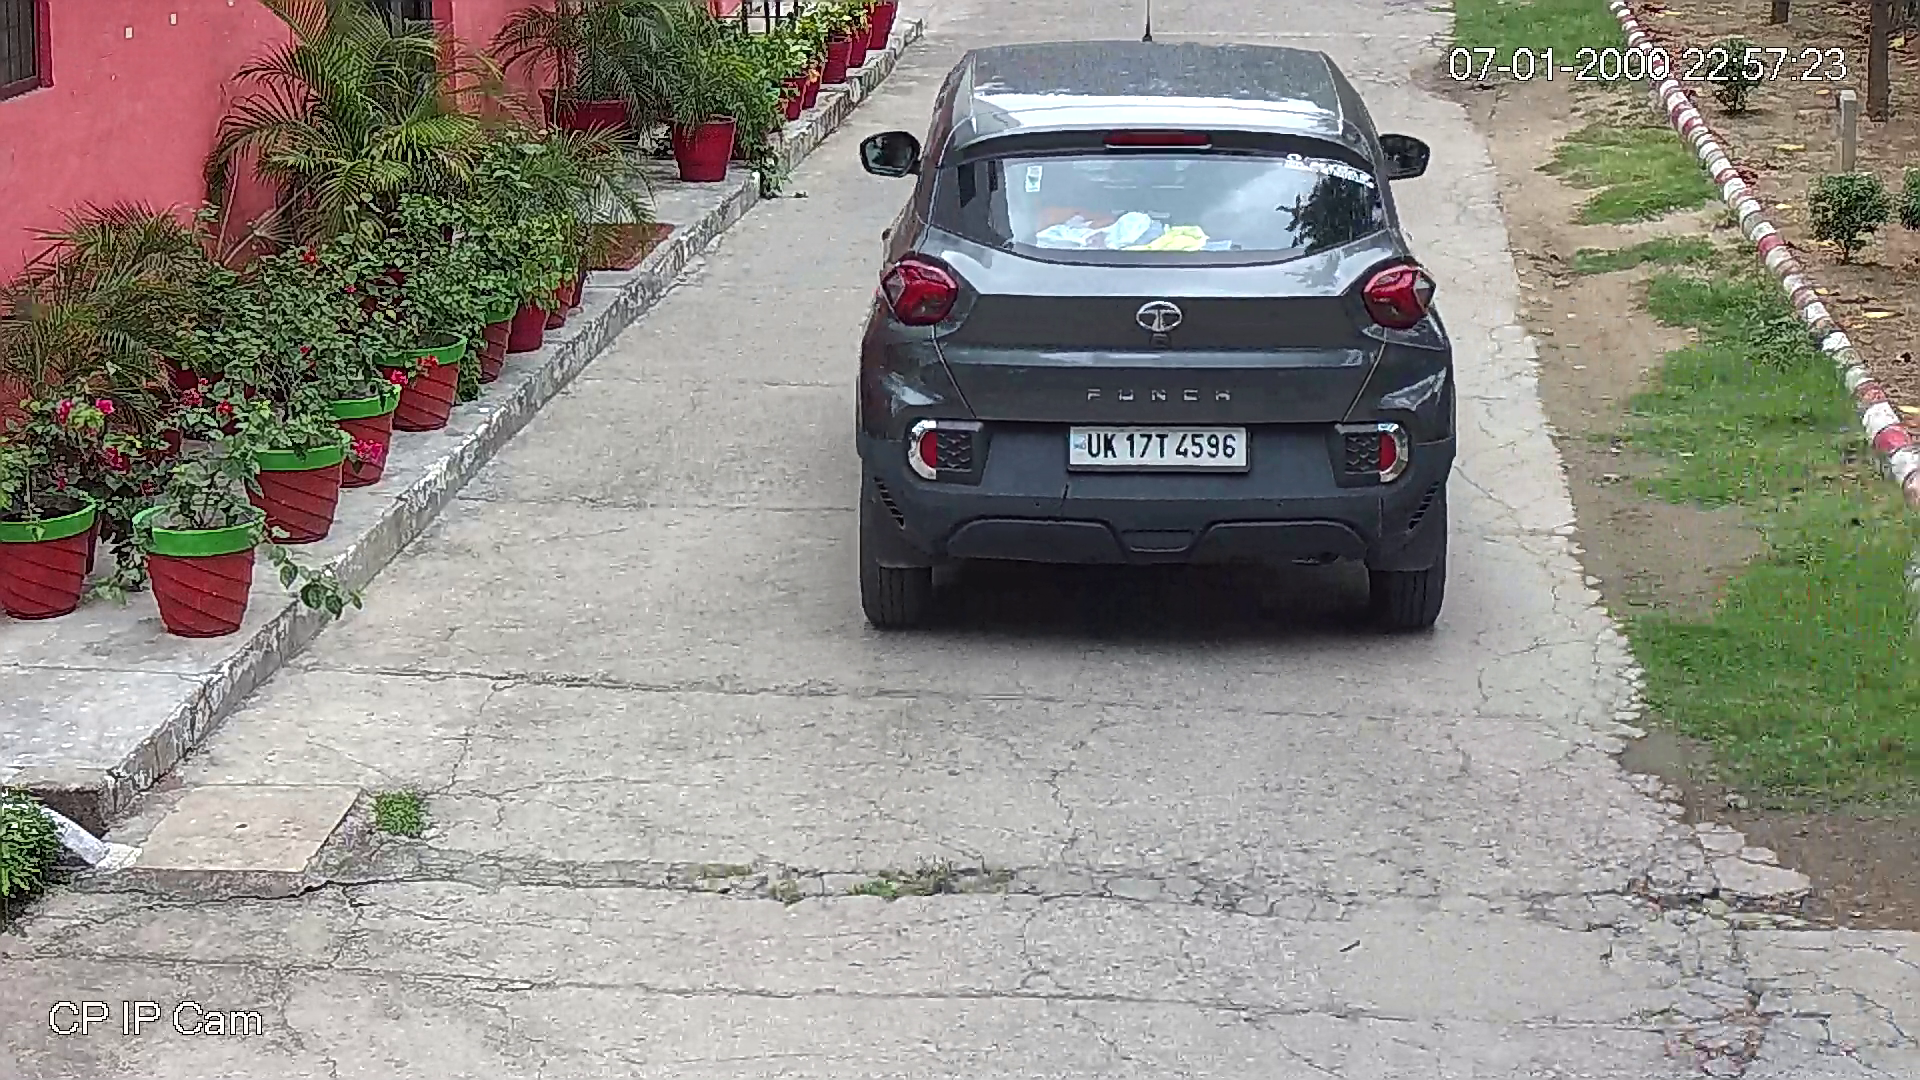plate: (1068, 426, 1248, 468)
